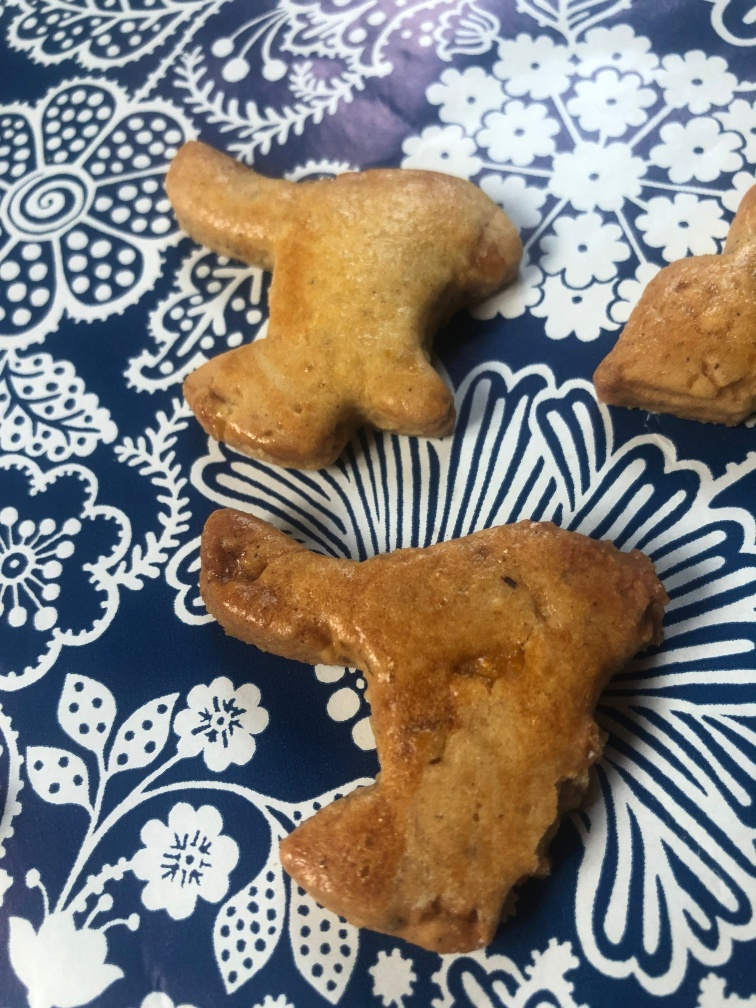squirrel: (196, 501, 668, 952), (148, 132, 543, 477)
